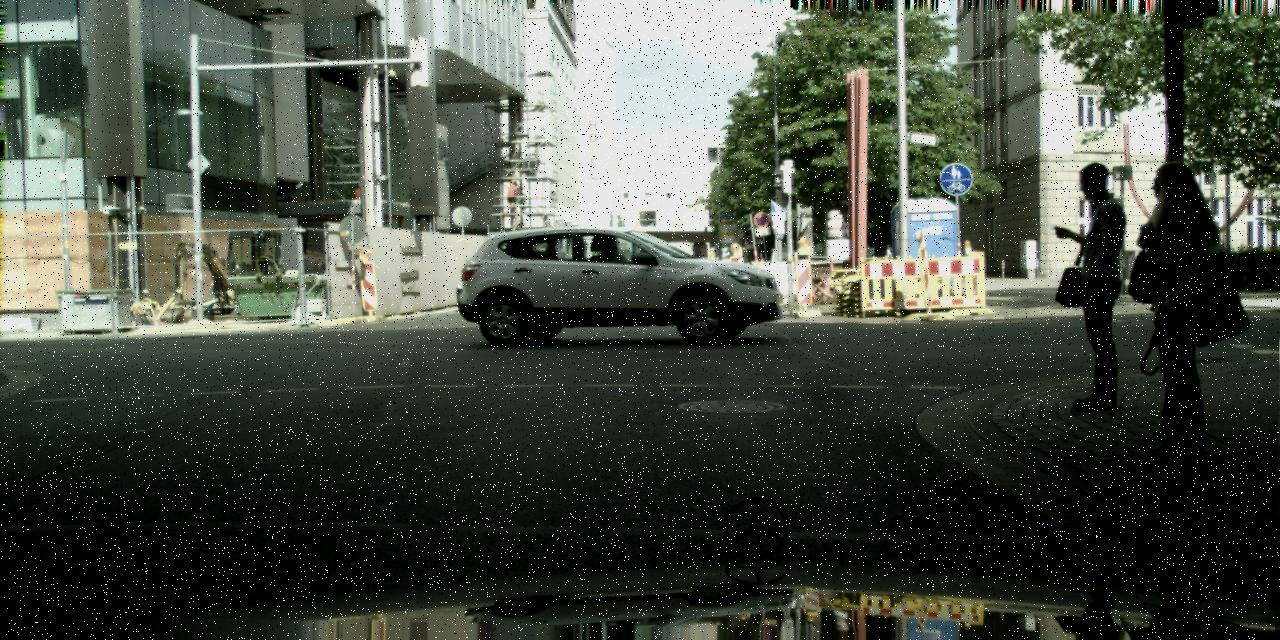ped: (1118, 161, 1240, 458), (1046, 160, 1148, 410), (505, 180, 518, 213)
